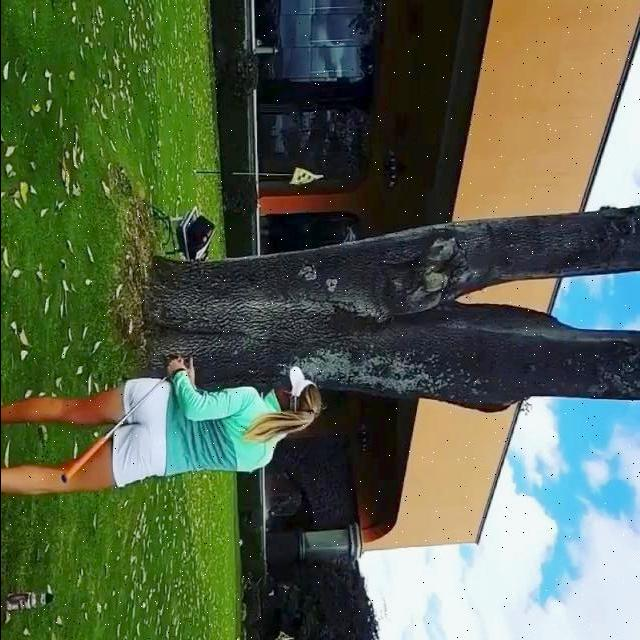golf club-handle: (60, 374, 171, 484)
